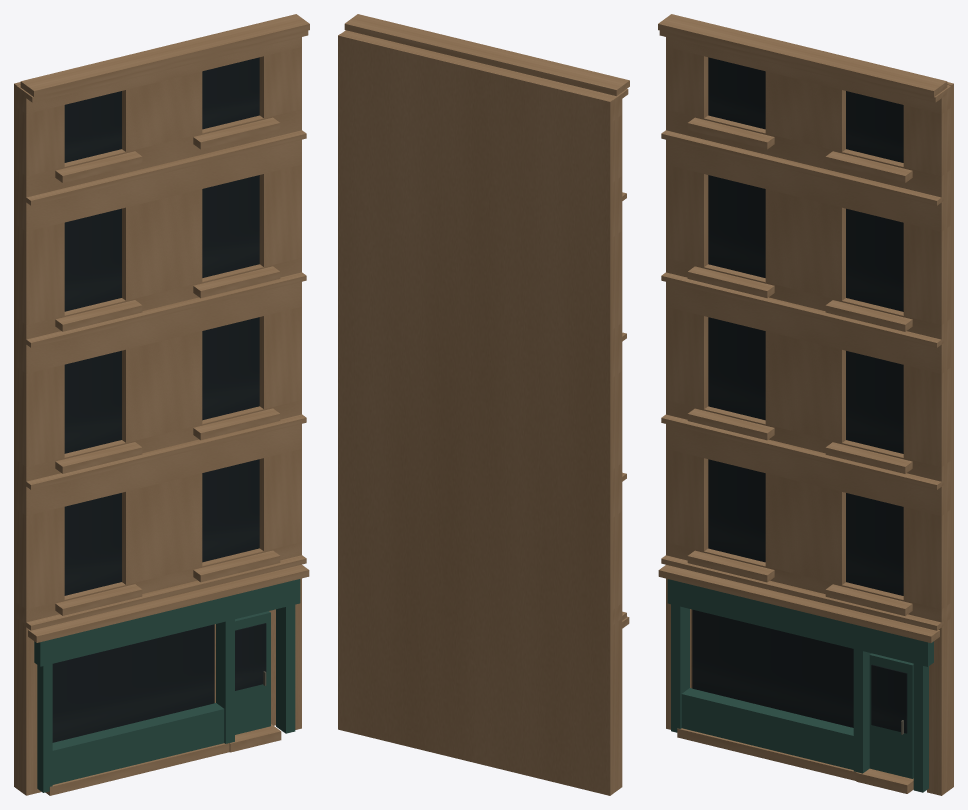
Rendered from glasgow_bay_far.glb.
3 renders of one model, left to right at view 1: azimuth 30°, elevation 25°; view 2: azimuth 150°, elevation 25°; view 3: azimuth 330°, elevation 25°, orthographic.
Parts seen in each view (by area): view 1: GlasgowBay_FAR; view 2: GlasgowBay_FAR; view 3: GlasgowBay_FAR.
Boxes of the visible parts, x1,y1,x2,y2 form: GlasgowBay_FAR: (14, 14, 309, 795); GlasgowBay_FAR: (338, 14, 629, 795); GlasgowBay_FAR: (658, 14, 953, 795).
Size of the model in its own units: 6.5 by 16 by 0.86.
Materials: 4 (2 with a texture image).
